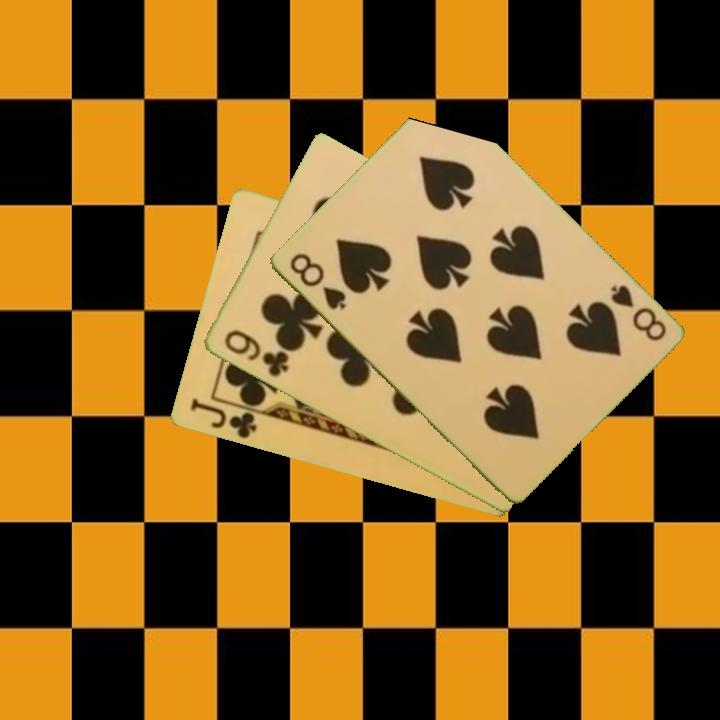8s: (285, 249, 349, 313), (606, 281, 669, 344)
9c: (220, 326, 291, 380)
Jc: (186, 395, 267, 442)
